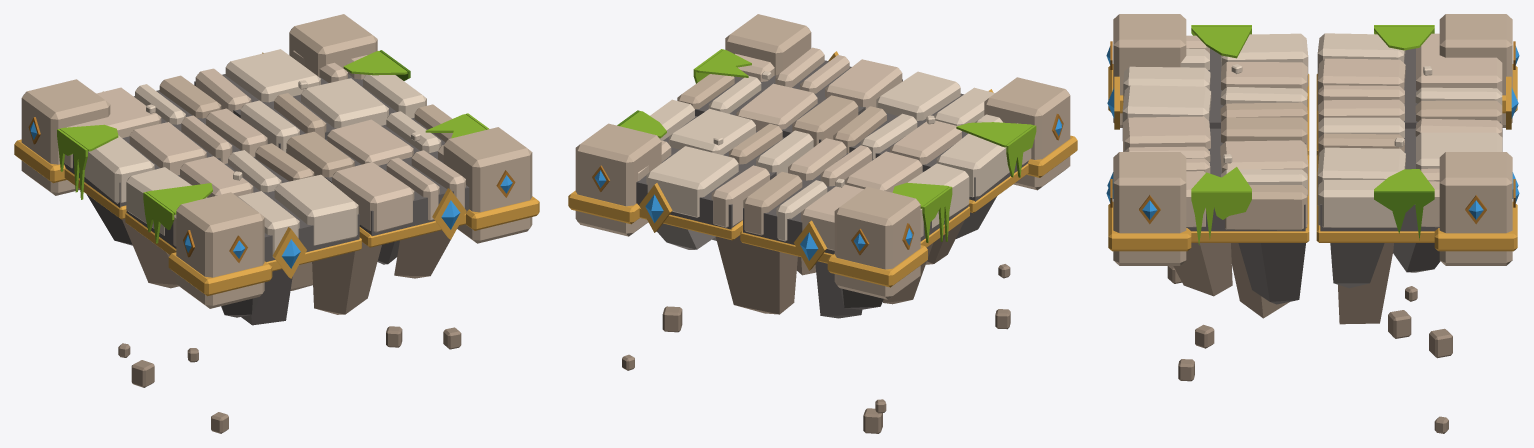
The model's file is Plataforma_Instavel.fbx.
The picture shows the model from 3 angles, left to right: view 1: azimuth 30°, elevation 25°; view 2: azimuth 150°, elevation 25°; view 3: azimuth 270°, elevation 25°; orthographic projection. The views are drawn at different scales.
Visible parts, largest first — view 1: Plataforma_Instavel_Parte_2, Plataforma_Instavel_Parte_1, Plataforma_Instavel_Parte_3, Plataforma_Instavel_Parte_4; view 2: Plataforma_Instavel_Parte_4, Plataforma_Instavel_Parte_3, Plataforma_Instavel_Parte_1, Plataforma_Instavel_Parte_2; view 3: Plataforma_Instavel_Parte_2, Plataforma_Instavel_Parte_4, Plataforma_Instavel_Parte_3, Plataforma_Instavel_Parte_1.
Part boxes in pixels (x1,y1,x2,y2): Plataforma_Instavel_Parte_2: [286, 104, 539, 349]; Plataforma_Instavel_Parte_1: [125, 143, 361, 433]; Plataforma_Instavel_Parte_3: [14, 75, 267, 387]; Plataforma_Instavel_Parte_4: [194, 14, 426, 290]; Plataforma_Instavel_Parte_4: [568, 99, 813, 370]; Plataforma_Instavel_Parte_3: [740, 138, 969, 433]; Plataforma_Instavel_Parte_1: [833, 71, 1077, 329]; Plataforma_Instavel_Parte_2: [677, 14, 902, 275]; Plataforma_Instavel_Parte_2: [1106, 116, 1309, 381]; Plataforma_Instavel_Parte_4: [1316, 117, 1519, 433]; Plataforma_Instavel_Parte_3: [1316, 14, 1519, 338]; Plataforma_Instavel_Parte_1: [1106, 14, 1309, 283].
Bounding box in the file's own units: 3.39 × 2.6 × 3.39.
